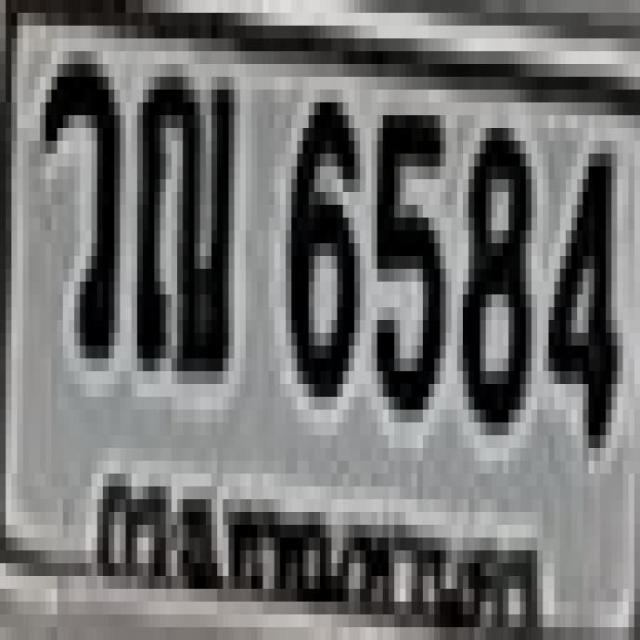4: (545, 136, 613, 433)
5: (370, 105, 439, 406)
6: (284, 90, 353, 385)
8: (457, 116, 526, 421)
A19: (131, 62, 230, 361)
A37: (37, 53, 116, 347)
